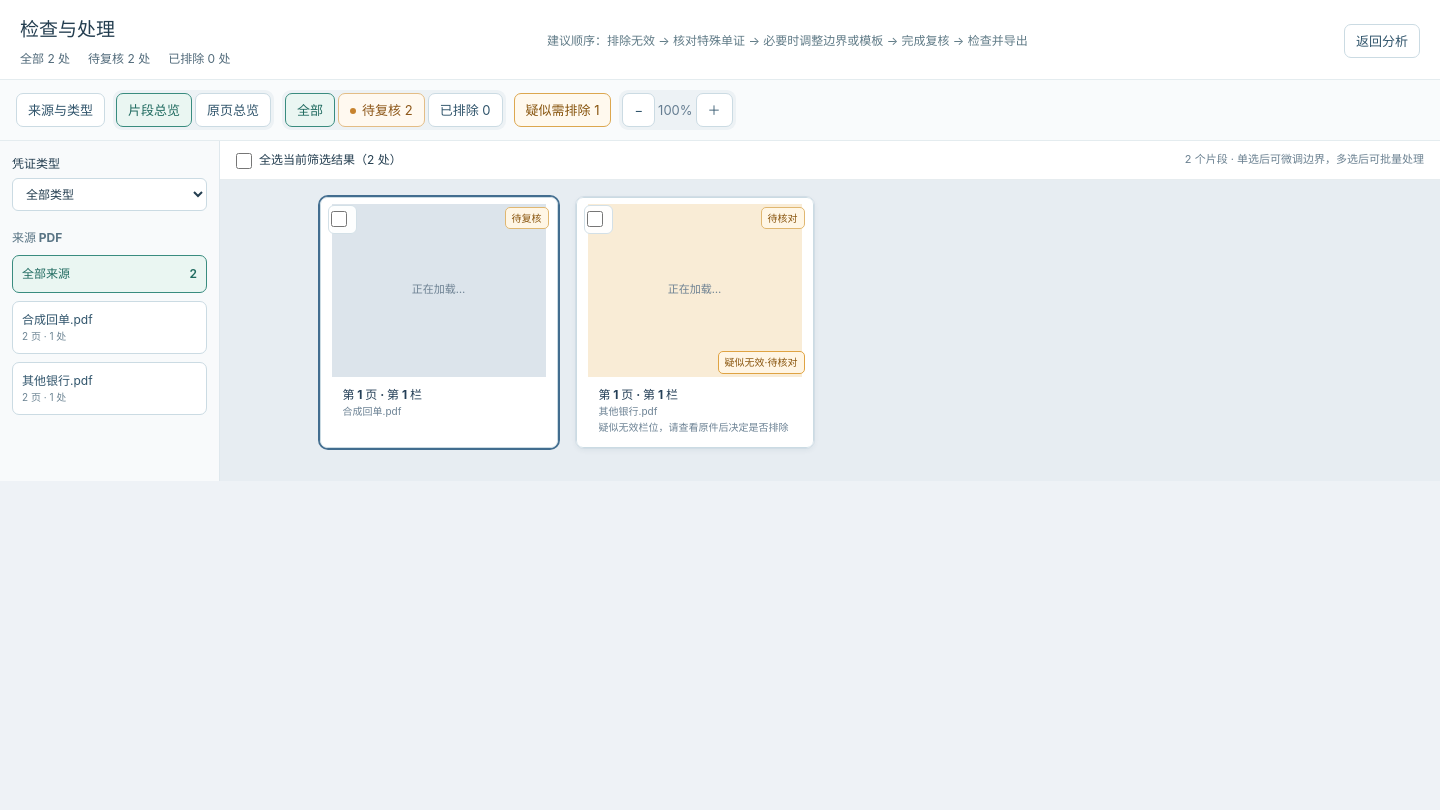
Test case: ReceiptOverview › keeps suspected filtering and the template entry scoped to the selected PDF
Expected: the button "疑似需排除 1" is shown, 514,93 -> 612,127
Click the button "合成回单.pdf 2 页 · 1 处" at (110, 327), box 12,301 -> 207,354
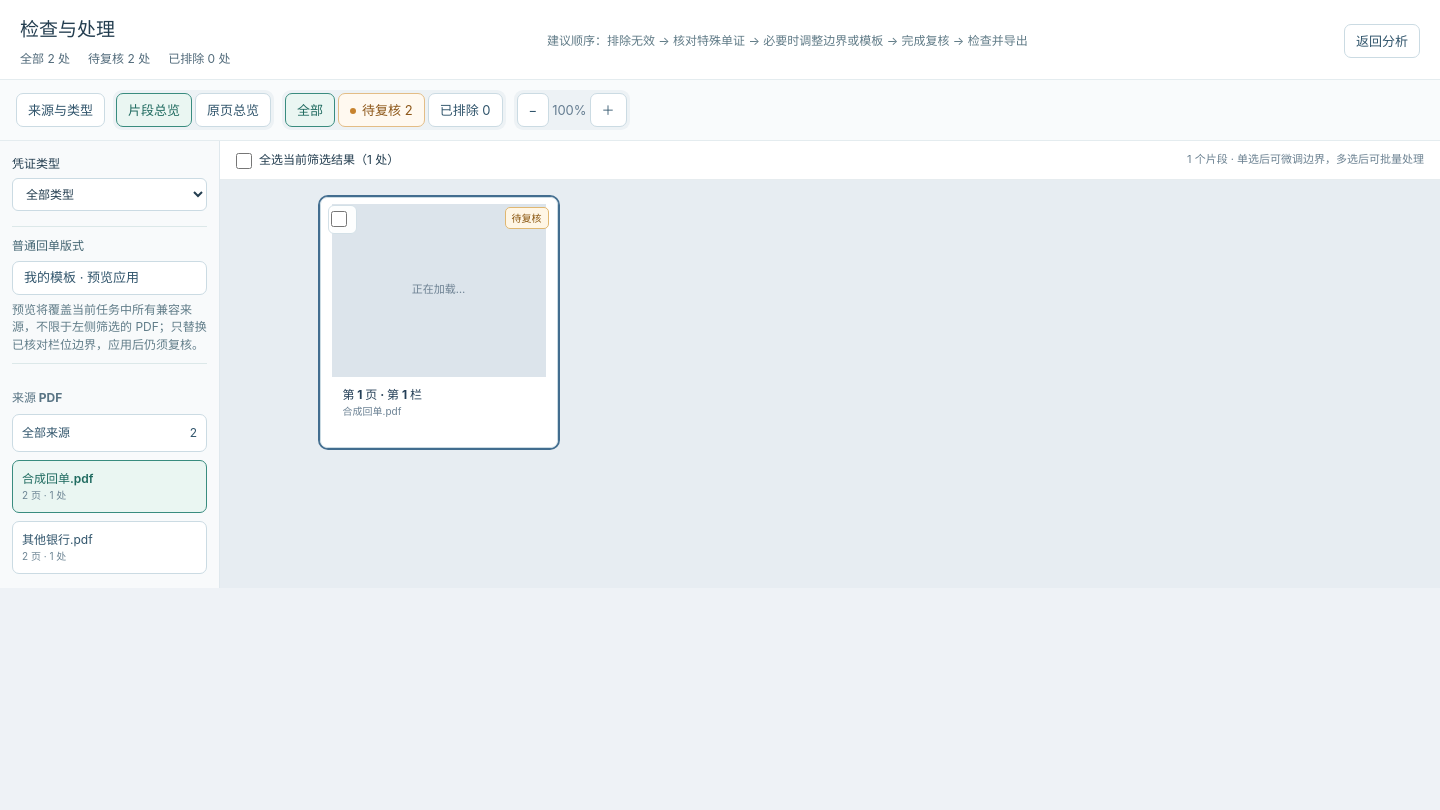
Result: the button "疑似需排除" is gone
Result: the button "我的模板 · 预览应用" is shown at 12,261 -> 207,295
Click the button "其他银行.pdf 2 页 · 1 处" at (110, 548), box 12,521 -> 207,574
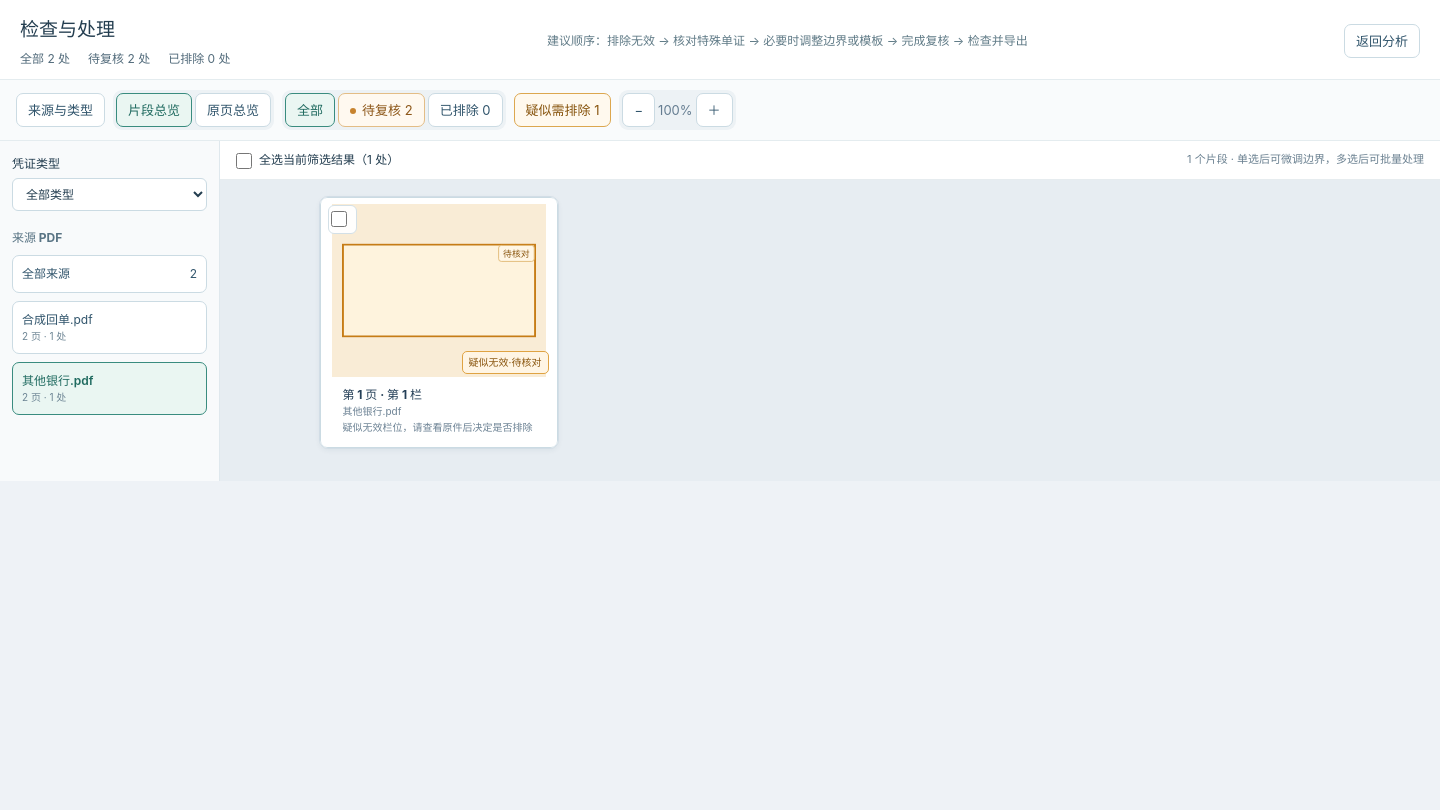
Result: the button "疑似需排除 1" is shown at 514,93 -> 612,127
Result: the button "我的模板 · 预览应用" is gone
